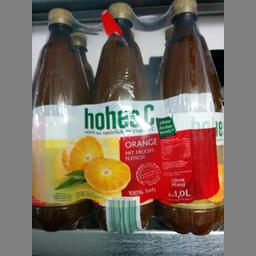juice: (156, 0, 222, 234), (90, 2, 156, 228), (32, 6, 90, 228)
